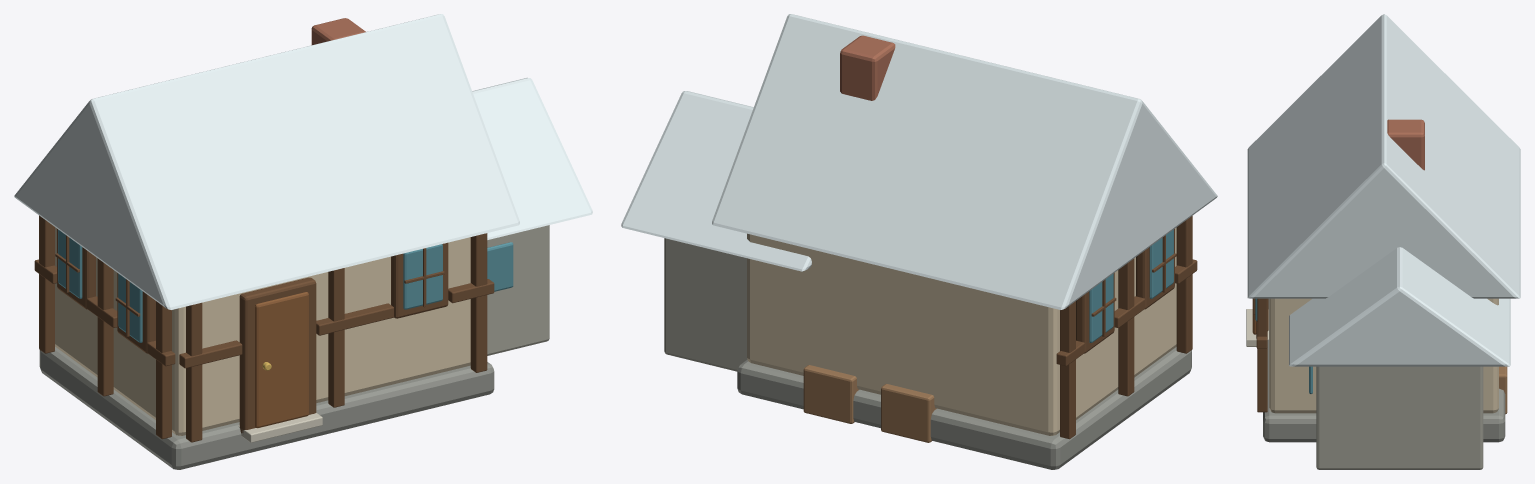
File: snowy-cottage-4.glb
3 renders of one model, left to right at view 1: azimuth 30°, elevation 25°; view 2: azimuth 150°, elevation 25°; view 3: azimuth 270°, elevation 25°, orthographic. The views are drawn at different scales.
Parts seen in each view (by area): view 1: Snow, Ivory plaster, Dark beams, Foundation stone, Door oak, Fieldstone, Blue glass, Cut limestone, Chimney brick; view 2: Snow, Ivory plaster, Foundation stone, Fieldstone, Dark beams, Aged oak, Chimney brick, Blue glass; view 3: Snow, Fieldstone, Ivory plaster, Foundation stone, Dark beams, Chimney brick, Cut limestone.
Part boxes in pixels (x1,y1,x2,y2): Snow: [14, 14, 592, 309]; Ivory plaster: [55, 227, 470, 435]; Dark beams: [34, 215, 494, 442]; Foundation stone: [39, 347, 494, 469]; Door oak: [255, 292, 308, 428]; Fieldstone: [487, 225, 549, 355]; Blue glass: [58, 229, 513, 342]; Cut limestone: [238, 413, 322, 442]; Chimney brick: [311, 18, 365, 44]; Snow: [621, 14, 1217, 309]; Ivory plaster: [747, 227, 1176, 435]; Foundation stone: [737, 347, 1191, 469]; Fieldstone: [664, 238, 747, 371]; Dark beams: [1056, 216, 1197, 439]; Aged oak: [803, 365, 936, 442]; Chimney brick: [840, 35, 895, 100]; Blue glass: [1089, 229, 1173, 342]; Snow: [1247, 14, 1520, 366]; Fieldstone: [1316, 366, 1483, 469]; Ivory plaster: [1269, 298, 1498, 413]; Foundation stone: [1263, 299, 1505, 442]; Dark beams: [1253, 298, 1268, 412]; Chimney brick: [1387, 119, 1424, 170]; Cut limestone: [1246, 309, 1268, 346].
Bounding box in the file's own units: 4.38 × 3.03 × 2.63.
